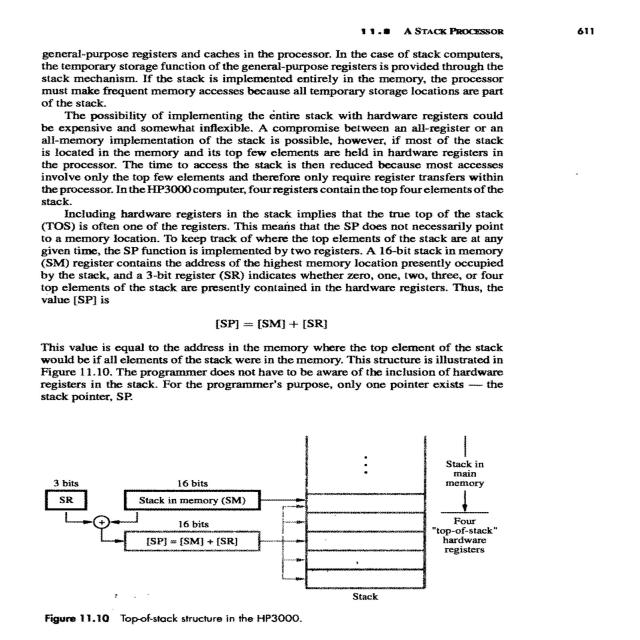diagram: (17, 423, 532, 640)
